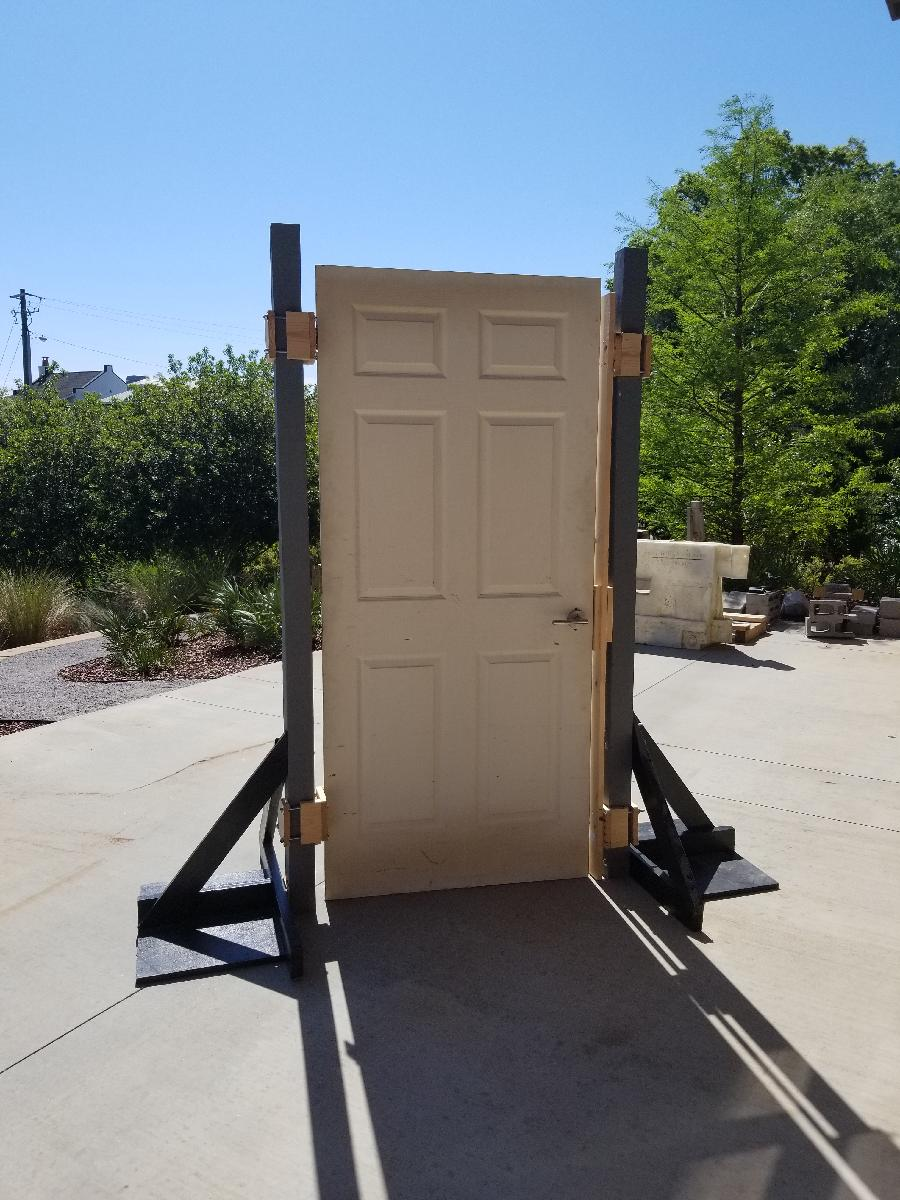door: (308, 258, 609, 908)
doorHandle: (549, 605, 594, 641)
